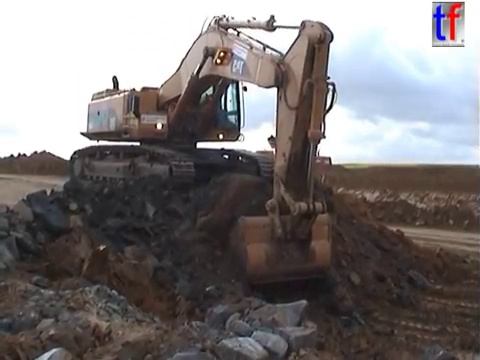excavator: (66, 10, 340, 288)
wheel loader: (271, 142, 333, 175)
